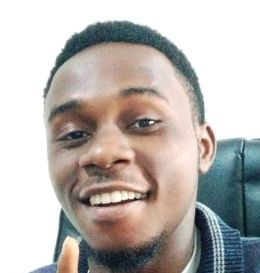without_facemask: (48, 156, 215, 247)
